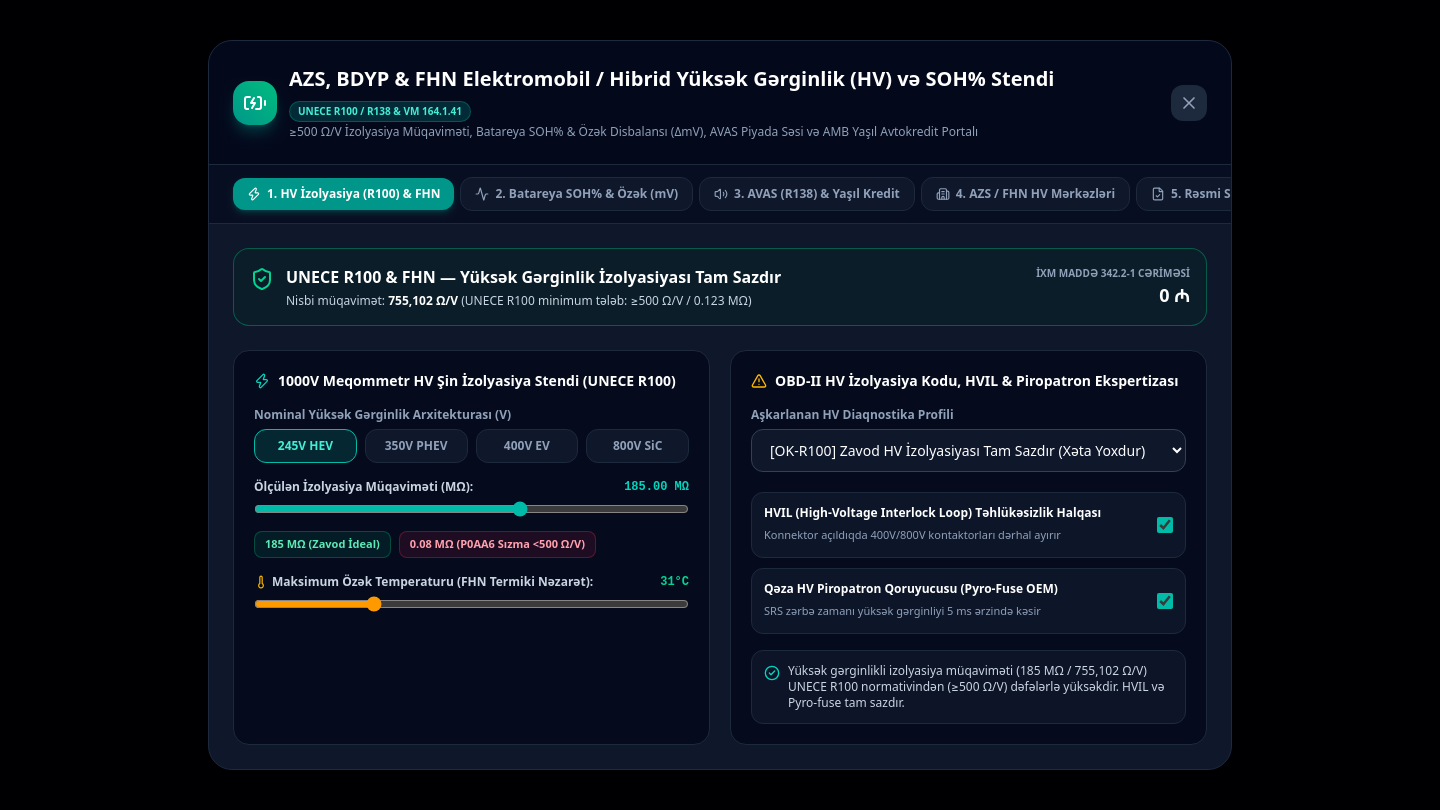
it: HvBatterySafetyModal component › navigates to Tab 2 (Battery SOH% & Cell Delta mV) and updates SOH% & Cell Delta telemetry
This screenshot has width=1440, height=810.
Step 1. Click the button with test id "tab-hv-soh-delta" → (577,194), box [460,177,693,211]
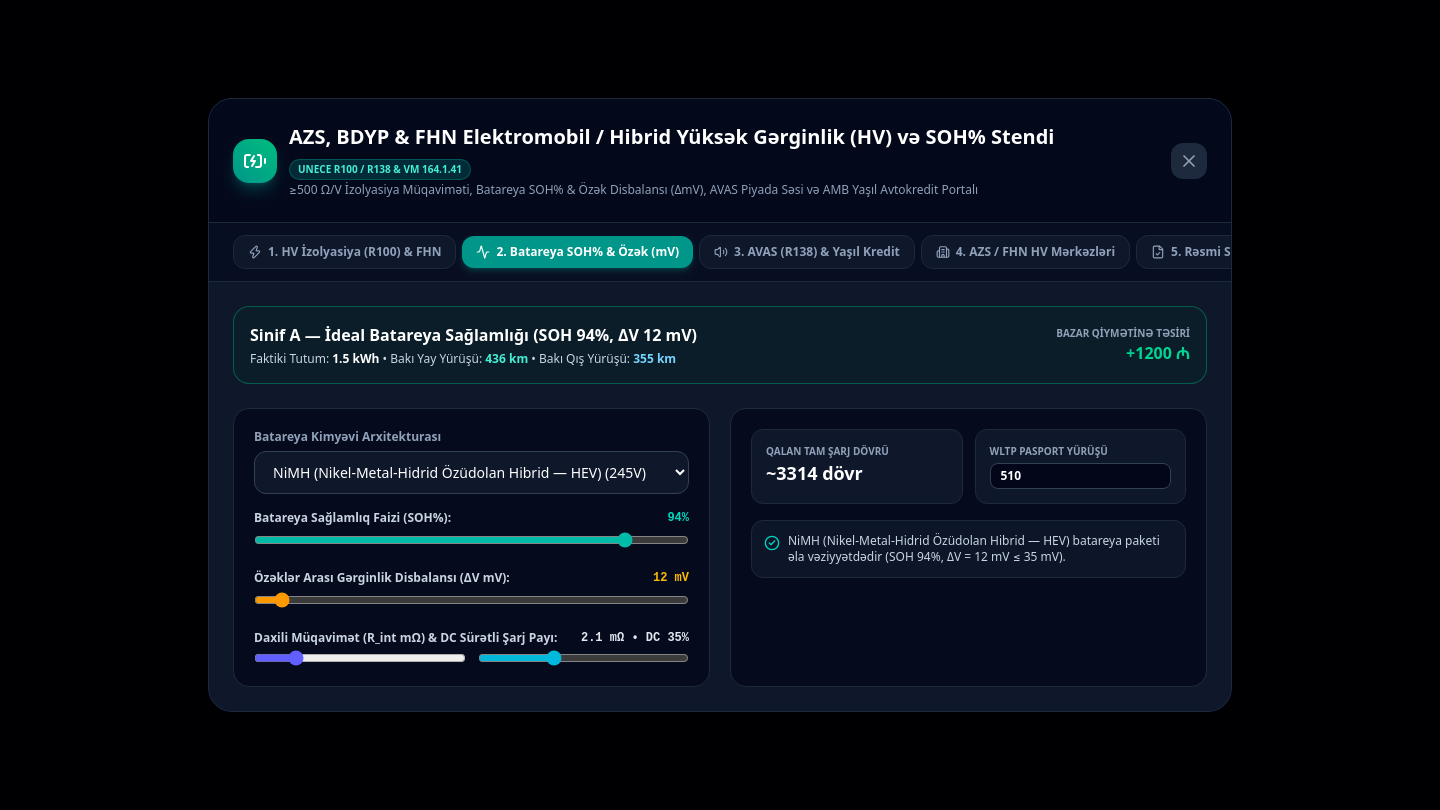
Expected: the element with test id "panel-hv-soh-delta" is shown, [233,306,1207,687]
Step 2. Set the slider with test id "soh-percent-slider" to "65" → (355,540), box [254,532,689,548]
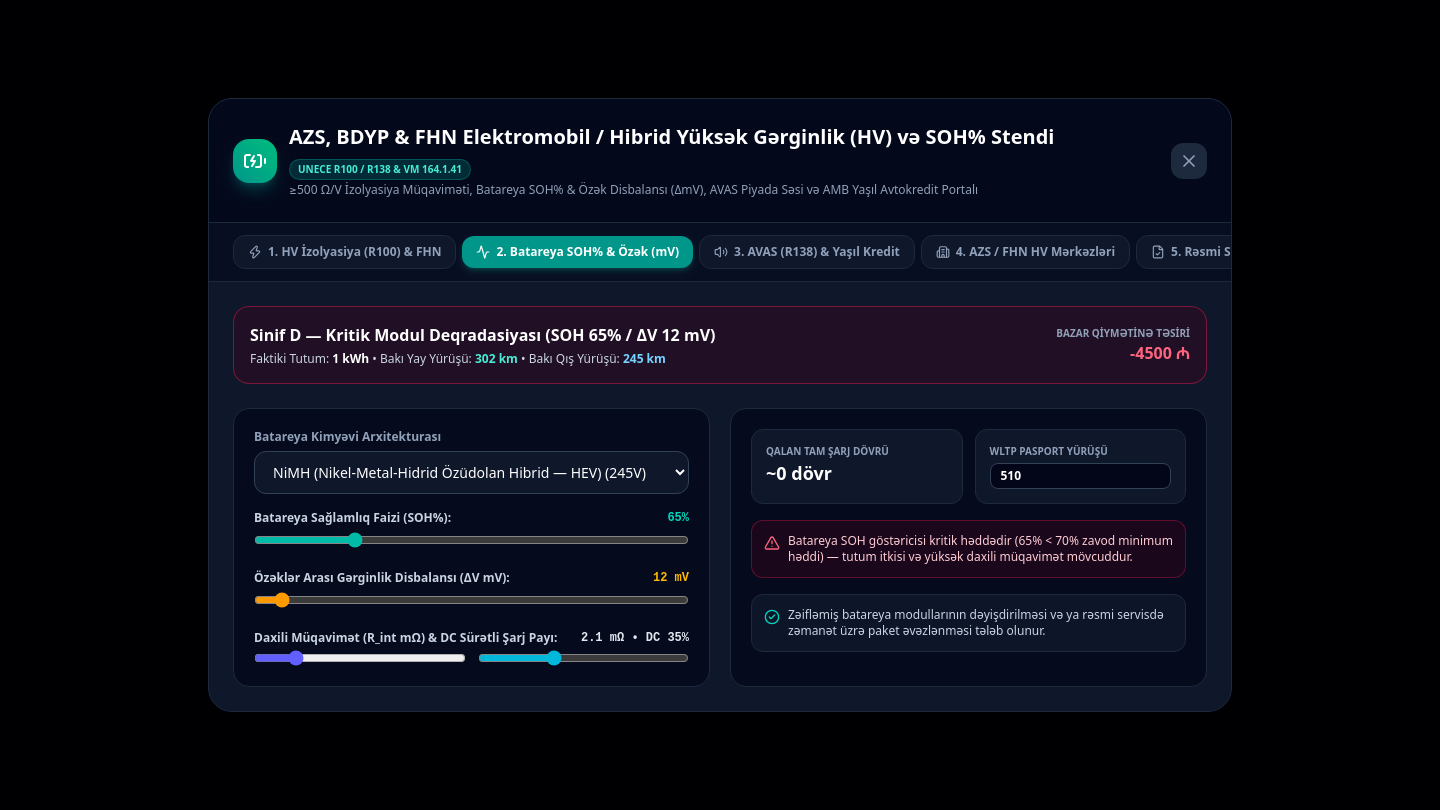
Expected: the text with test id "soh-percent-display" reads "65%", [667,510,689,526]
Expected: the text with test id "soh-valuation-impact" reads "-4500 ₼", [1130,342,1190,364]
